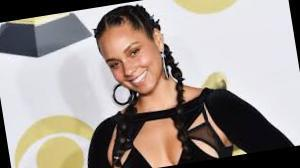Sober: (103, 31, 160, 95)
